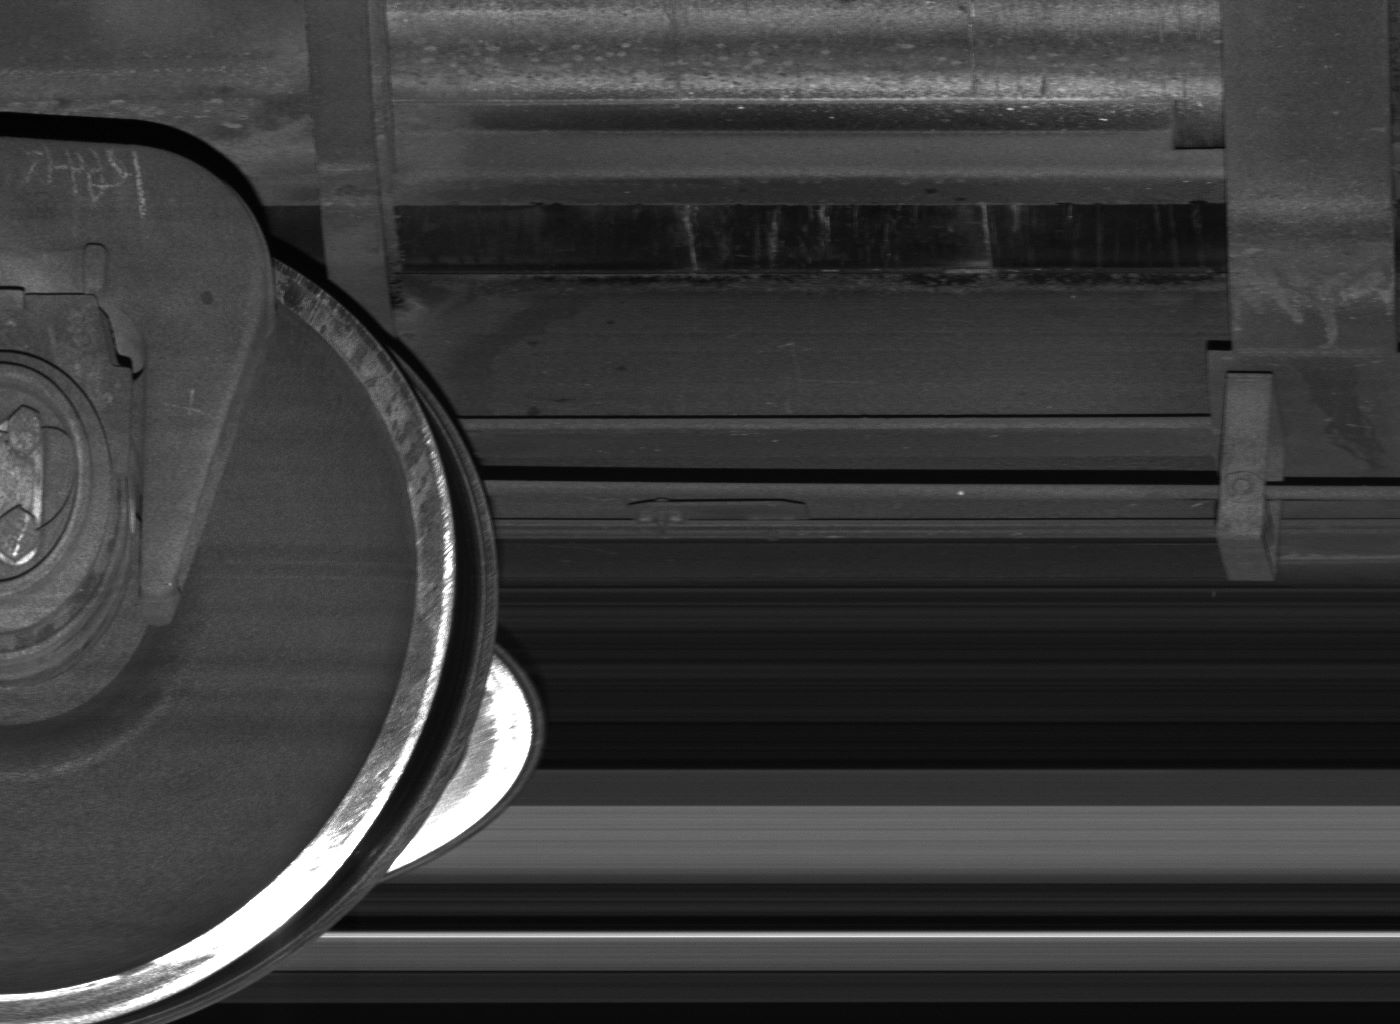normal: (1218, 373, 1284, 584)
